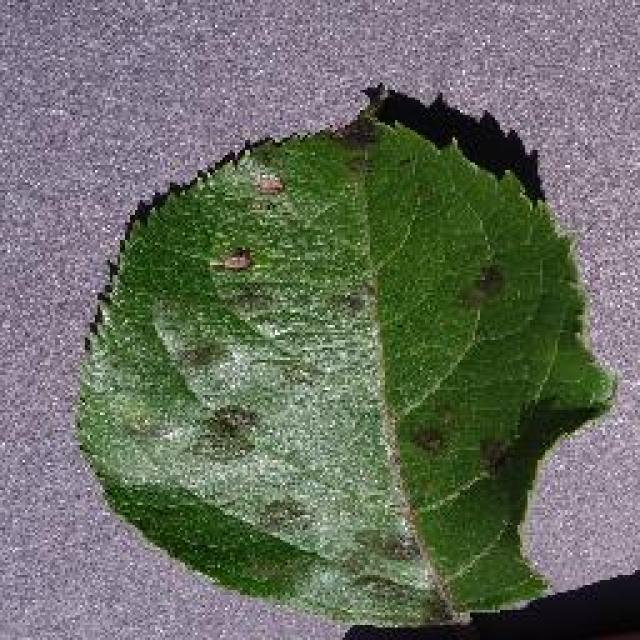apple scab disease: (70, 82, 618, 630)
